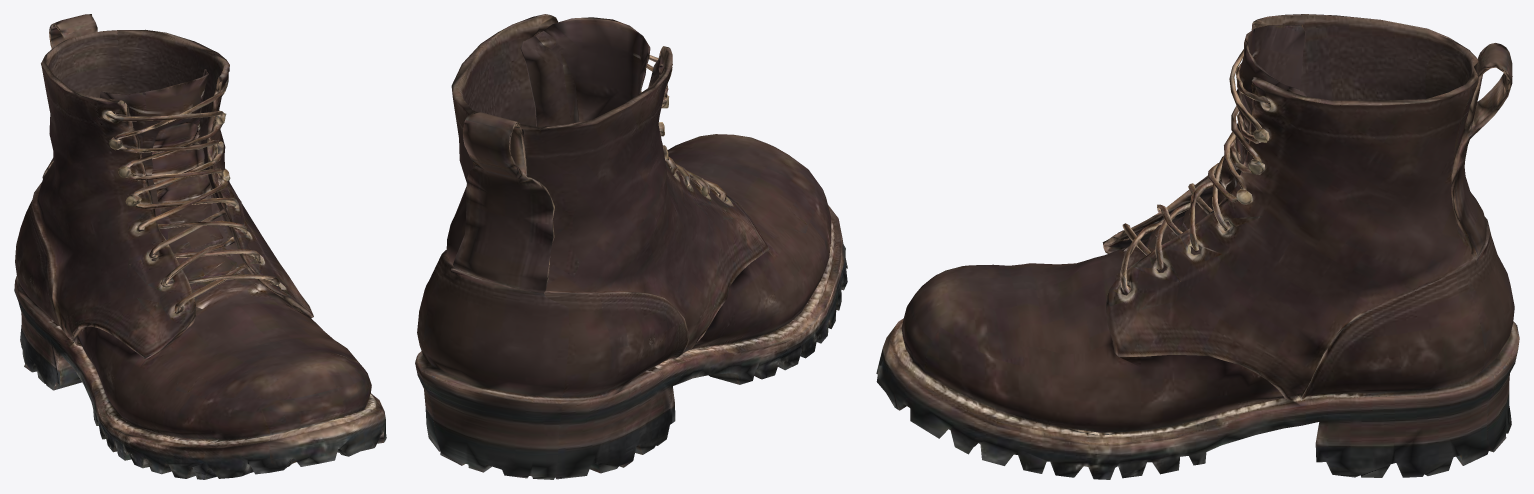
The model's file is loggers-right.glb.
3 renders of one model, left to right at view 1: azimuth 30°, elevation 25°; view 2: azimuth 150°, elevation 25°; view 3: azimuth 270°, elevation 25°, orthographic. The views are drawn at different scales.
Visible parts, largest first — view 1: loggers; view 2: loggers; view 3: loggers.
Part boxes in pixels (<box>): loggers: <box>14,14,386,479</box>; loggers: <box>415,14,847,479</box>; loggers: <box>876,14,1519,479</box>.
Size of the model in its own units: 0.22 by 0.2902 by 0.4401.
Materials: 1 (1 with a texture image).
